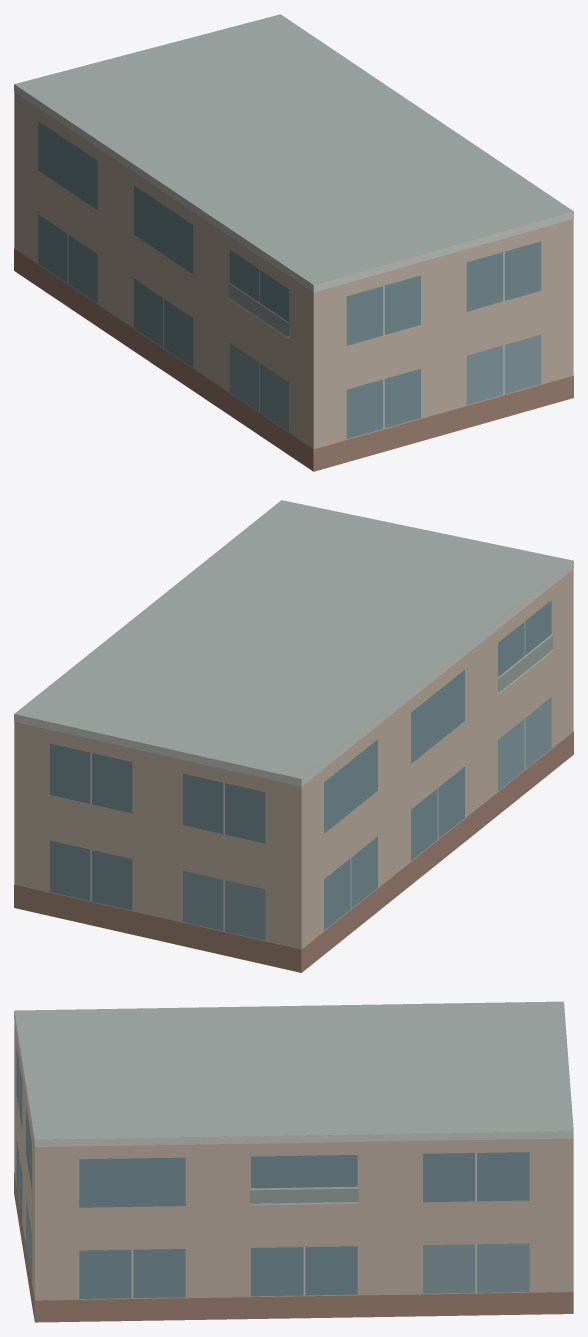
Rendered from survey-upis-32507724.glb.
3 views of the same model, one above another, from view 1: azimuth 30°, elevation 25°; view 2: azimuth 150°, elevation 25°; view 3: azimuth 270°, elevation 25° (orthographic). The views are drawn at different scales.
Visible parts, largest first — view 1: survey-upis-32507724.tmp; view 2: survey-upis-32507724.tmp; view 3: survey-upis-32507724.tmp.
Part boxes in pixels (box(x1,y1,x2,y2)): survey-upis-32507724.tmp: box(14, 14, 573, 471); survey-upis-32507724.tmp: box(14, 500, 573, 972); survey-upis-32507724.tmp: box(14, 1001, 573, 1322).
Size of the model in its own units: 9.91 by 6.1 by 16.95.
